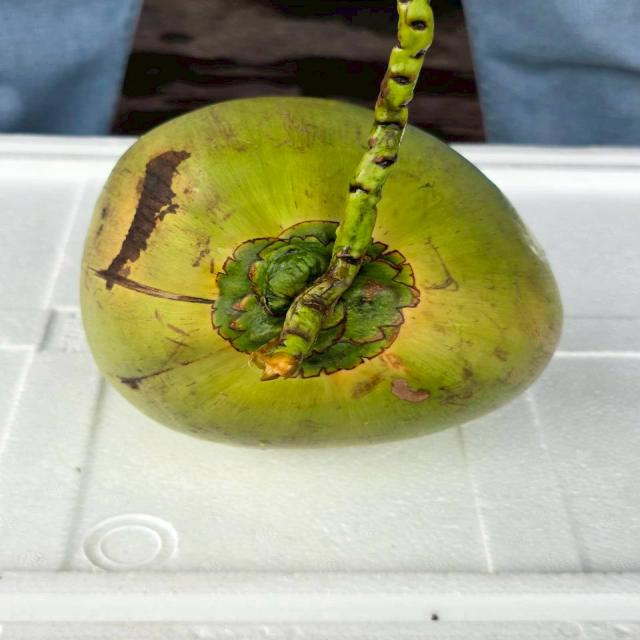coco_2.0: (168, 190, 458, 403)
